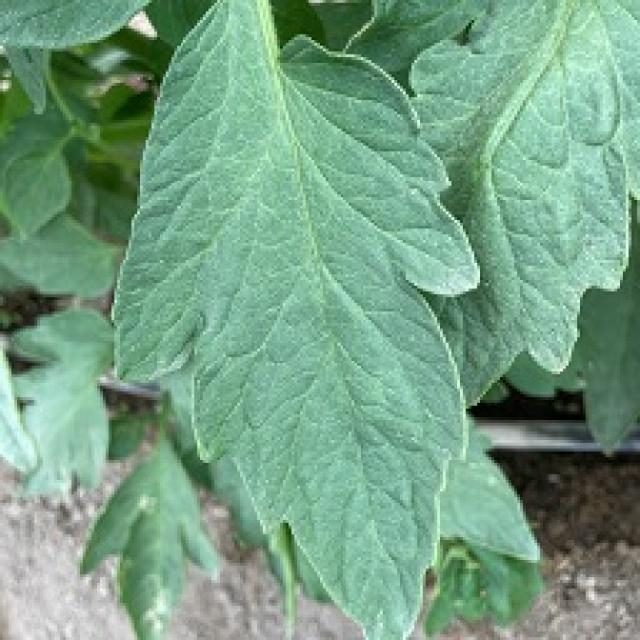Healthy: (52, 0, 549, 640), (410, 0, 639, 402)
